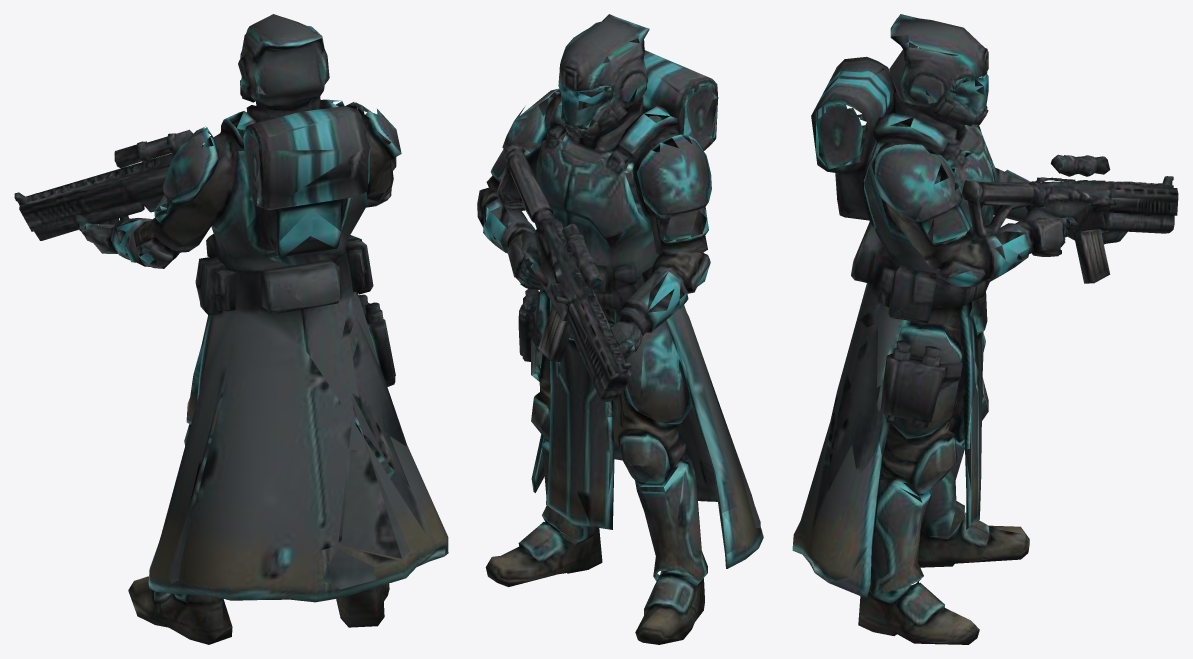
The model's file is clearance_engineer.glb.
The picture shows the model from 3 angles, left to right: view 1: azimuth 30°, elevation 25°; view 2: azimuth 150°, elevation 25°; view 3: azimuth 270°, elevation 25°; orthographic projection. The views are drawn at different scales.
Parts seen in each view (by area): view 1: Body, Trim; view 2: Body, Trim; view 3: Body, Trim.
Boxes of the visible parts, x1=… form: Body: x1=14, y1=14, x2=448, y2=644; Trim: x1=115, y1=31, x2=393, y2=571; Body: x1=477, y1=14, x2=763, y2=644; Trim: x1=483, y1=56, x2=745, y2=581; Body: x1=792, y1=14, x2=1178, y2=644; Trim: x1=816, y1=55, x2=1030, y2=598.
Bounding box in the file's own units: 0.8524 × 1.79 × 1.1.
2 materials, 2 textured.
